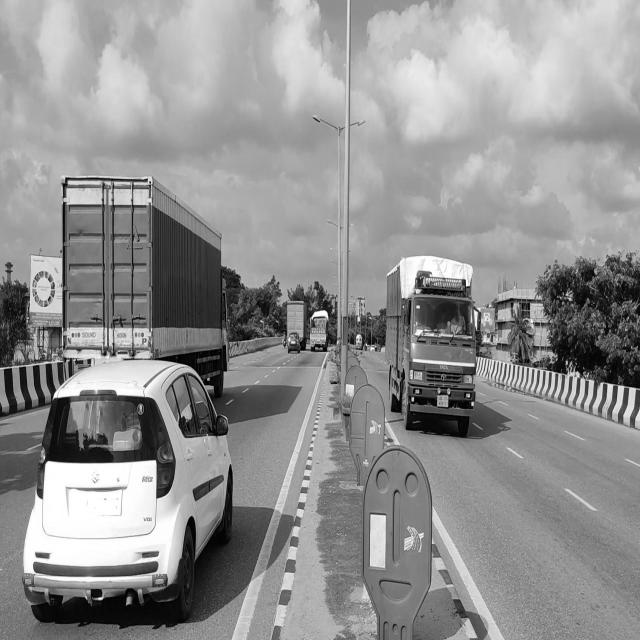car: (22, 352, 232, 610)
truck: (58, 166, 230, 397), (378, 252, 483, 440)
